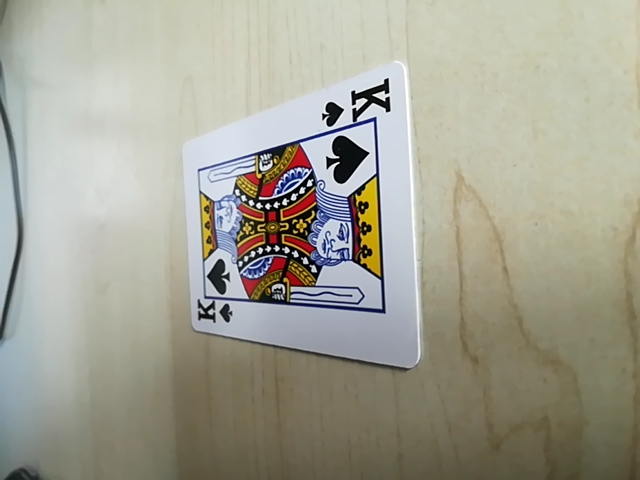ht k: (320, 80, 395, 130), (188, 291, 237, 329)
